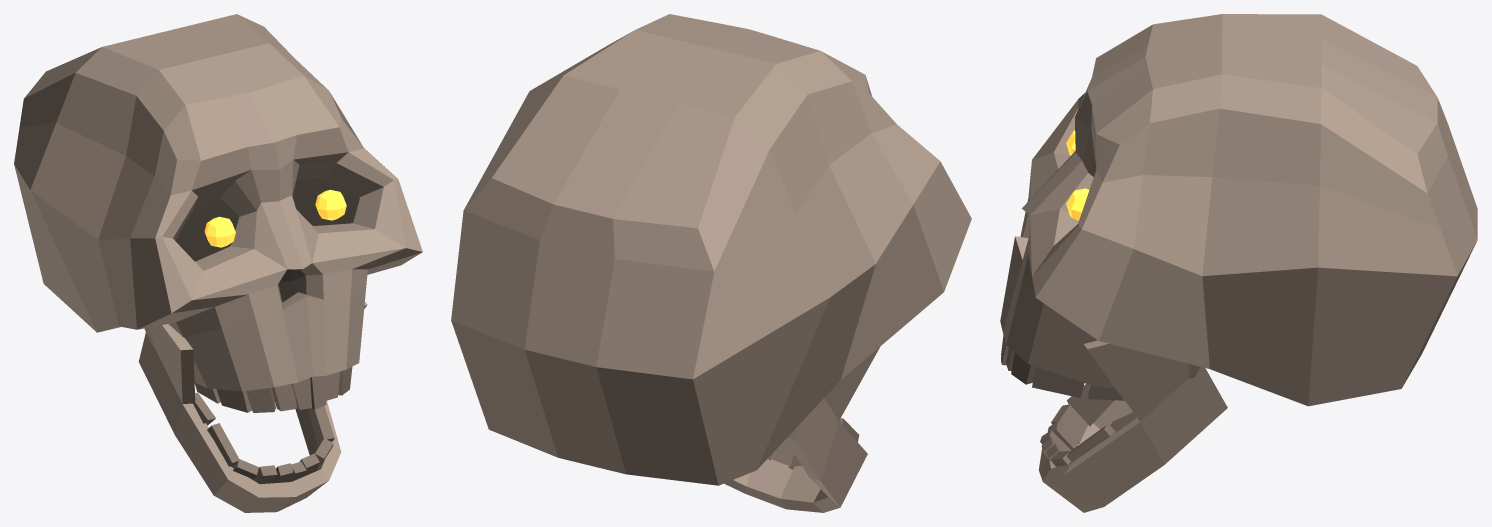
The model's file is skull_enemy.fbx.
The picture shows the model from 3 angles, left to right: view 1: azimuth 30°, elevation 25°; view 2: azimuth 150°, elevation 25°; view 3: azimuth 270°, elevation 25°; orthographic projection. The views are drawn at different scales.
Visible parts, largest first — view 1: skull_enemy; view 2: skull_enemy; view 3: skull_enemy.
Part boxes in pixels (bbox=[...]): skull_enemy: bbox=[14, 14, 422, 512]; skull_enemy: bbox=[451, 14, 971, 512]; skull_enemy: bbox=[1000, 14, 1477, 512].
Bounding box in the file's own units: 234 × 325 × 307.
